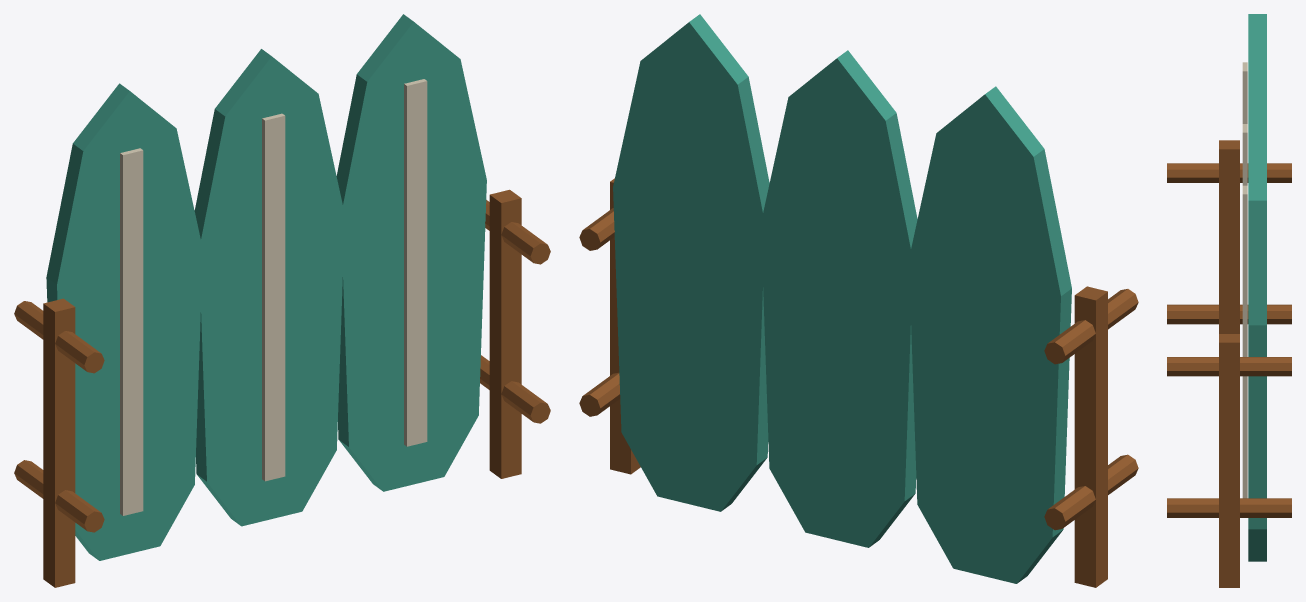
File: surf_rack.glb
3 views of the same model, side by side, from view 1: azimuth 30°, elevation 25°; view 2: azimuth 150°, elevation 25°; view 3: azimuth 270°, elevation 25° (orthographic). The views are drawn at different scales.
Parts seen in each view (by area): view 1: surf_rack_pc; view 2: surf_rack_pc; view 3: surf_rack_pc.
Part boxes in pixels (x1,y1,x2,y2): surf_rack_pc: (14, 14, 550, 587); surf_rack_pc: (579, 14, 1138, 587); surf_rack_pc: (1167, 14, 1291, 587).
Size of the model in its own units: 2.3 by 2.18 by 0.6.
